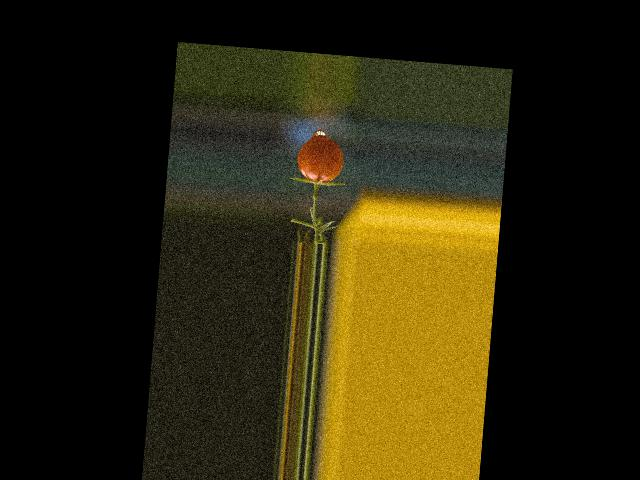tomato: (295, 135, 344, 184)
